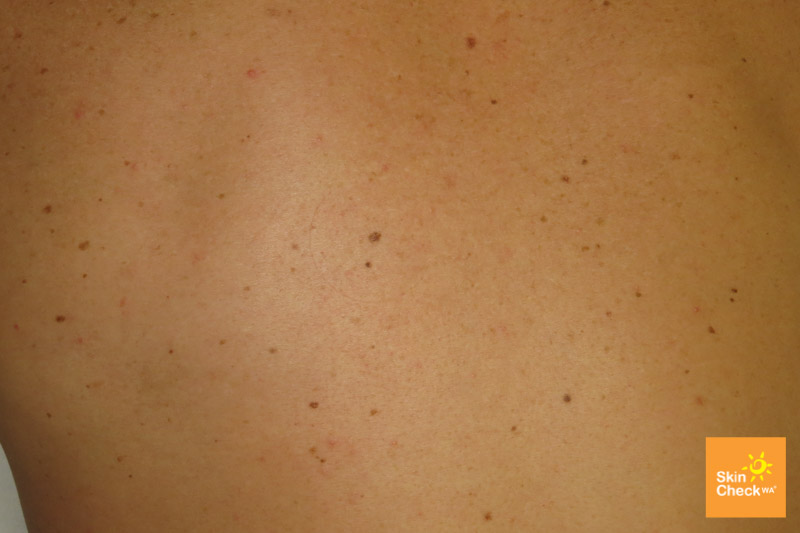mole: (73, 233, 100, 260), (557, 168, 587, 192), (458, 30, 483, 55), (573, 150, 597, 174), (361, 225, 388, 246), (483, 92, 506, 114), (703, 318, 724, 342), (301, 392, 323, 414), (629, 285, 653, 305), (360, 255, 383, 274), (477, 506, 498, 526), (37, 200, 58, 220), (32, 61, 54, 80), (365, 403, 385, 423), (558, 388, 577, 409), (683, 86, 701, 106), (51, 309, 69, 328), (40, 405, 58, 423), (123, 468, 142, 484), (724, 282, 744, 295)
